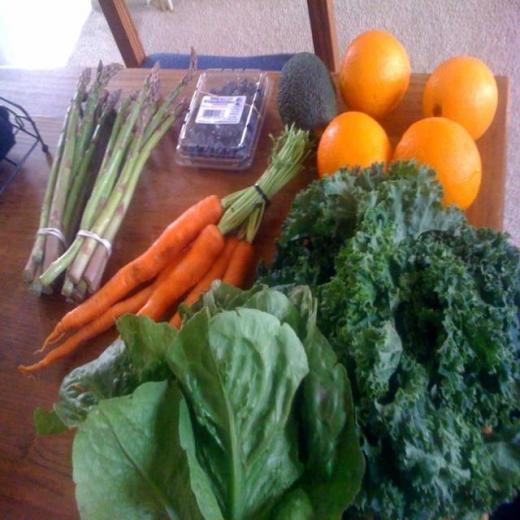Grape: (396, 116, 482, 210), (422, 58, 500, 143), (340, 32, 412, 118), (316, 111, 394, 177)
